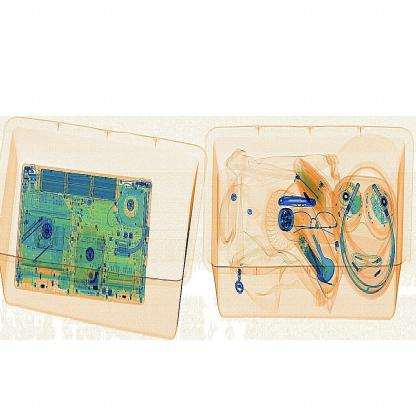knife: (276, 187, 320, 215)
